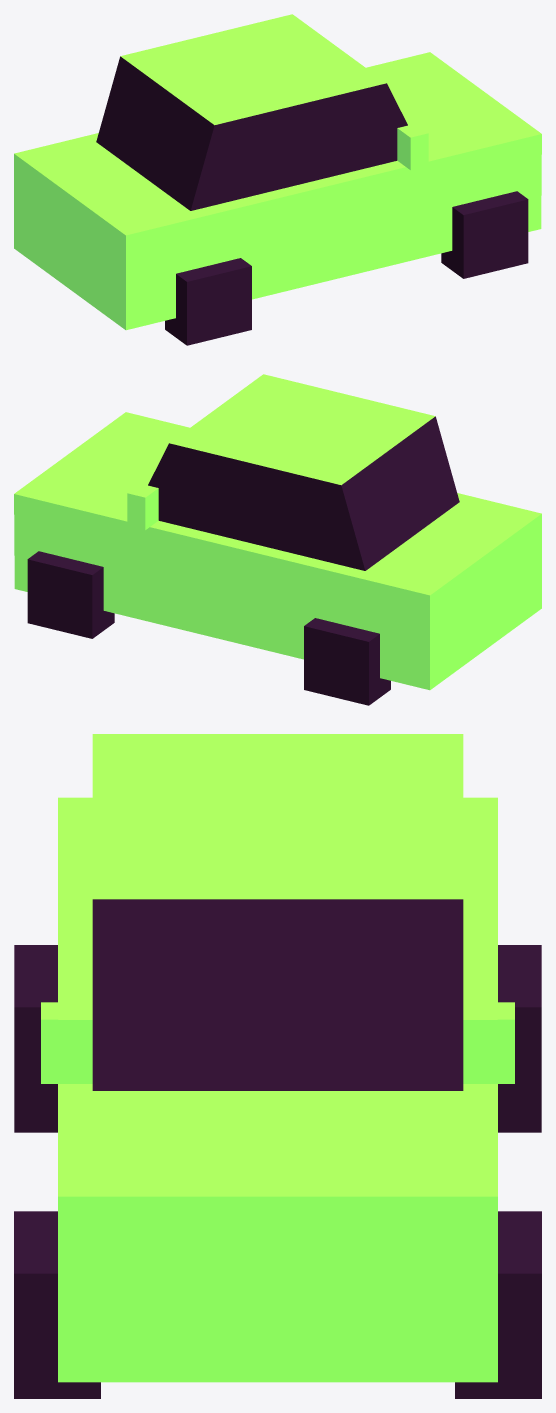
Rendered from Car_Spion_NoPlat.fbx.
3 views of the same model, one above another, from view 1: azimuth 30°, elevation 25°; view 2: azimuth 150°, elevation 25°; view 3: azimuth 270°, elevation 25° (orthographic). The views are drawn at different scales.
Parts seen in each view (by area): view 1: Car_Spion_NoPlat; view 2: Car_Spion_NoPlat; view 3: Car_Spion_NoPlat.
Boxes of the visible parts, x1,y1,x2,y2 form: Car_Spion_NoPlat: [14, 14, 541, 345]; Car_Spion_NoPlat: [14, 374, 541, 705]; Car_Spion_NoPlat: [14, 734, 541, 1398].
Bounding box in the file's own units: 240 × 430 × 192.
